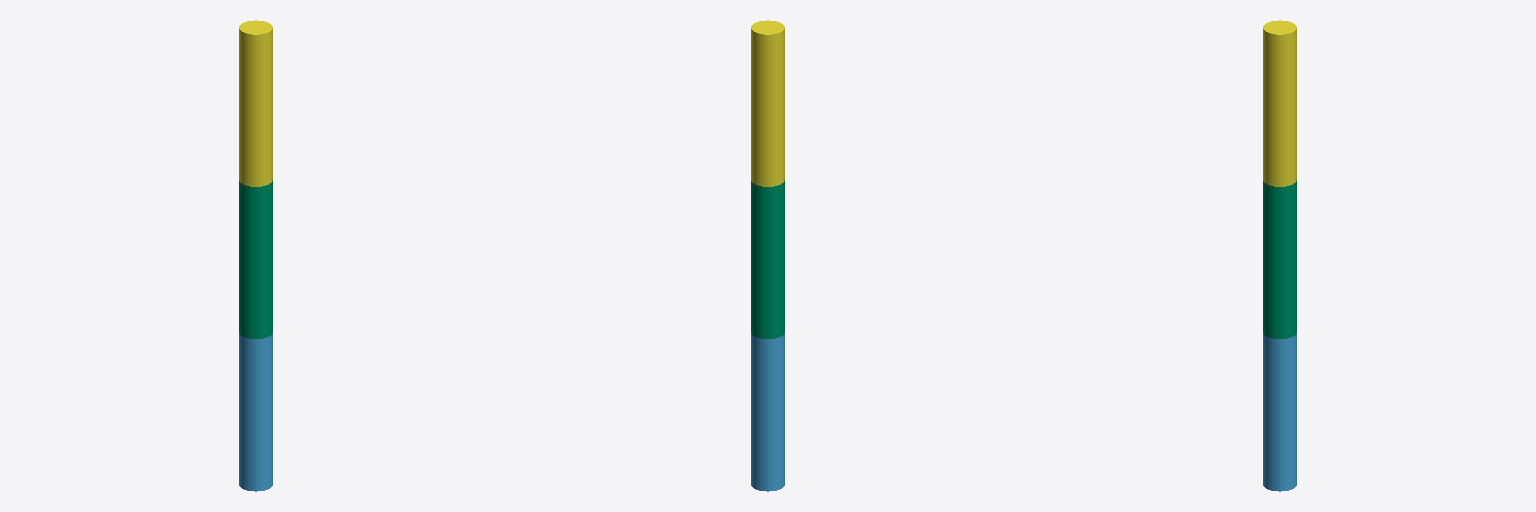
The robot description file, URDF, robot "lamp":
<?xml version="1.0"?>
<robot name="lamp">

  <!-- *************************************************** -->
  <!-- ******************** Kinematics ******************* -->
  <!-- *************************************************** -->

  <!-- Base Link -->
  <link name="base">
    <visual>
      <geometry>
        <mesh filename="package://pixar/meshes/lamp/base.stl" scale="0.01 0.01 0.01"/>
      </geometry>
    </visual>
  </link>

  <!-- Joint between world and link0 -->
  <joint name="theta1" type="continuous">
    <parent link="base"/>
    <child  link="link0"/>
    <origin xyz="0 0 0" rpy="0 0 0"/>
    <axis   xyz="0 0 1"/>
  </joint>

  <!-- Link 0 -->
  <link name="link0">
    <visual>
      <geometry>
        <mesh filename="package://pixar/meshes/lamp/link.stl" scale="0.01 0.01 0.01"/>
      </geometry>
    </visual>
  </link>

  <!-- Joint between link0 and link1 -->
  <joint name="theta2" type="continuous">
    <parent link="link0"/>
    <child  link="link1"/>
    <origin xyz="0 0 0.5" rpy="0 0 0"/>
    <axis   xyz="0 1 0"/>
  </joint>

  <!-- Link 1 -->
  <link name="link1">
    <visual>
      <geometry>
        <mesh filename="package://pixar/meshes/lamp/link.stl" scale="0.01 0.01 0.01"/>
      </geometry>
    </visual>
  </link>

  <!-- Joint between link1 and link2 -->
  <joint name="theta3" type="continuous">
    <parent link="link1"/>
    <child  link="link2"/>
    <origin xyz="0 0 0.5" rpy="0 0 0"/>
    <axis   xyz="0 1 0"/>
  </joint>

  <!-- Link 2 -->
  <link name="link2">
    <visual>
      <geometry>
        <mesh filename="package://pixar/meshes/lamp/link.stl"  scale="0.01 0.01 0.01"/>
      </geometry>
    </visual>
  </link>

  <!-- Joint between link2 and head -->
  <joint name="theta4" type="continuous">
    <parent link="link2"/>
    <child  link="head"/>
    <origin xyz="0 0 0.5" rpy="0 0 0"/>
    <axis   xyz="0 1 0"/>
  </joint>

  <!-- Head Link -->
  <link name="head">
    <visual>
      <geometry>
        <mesh filename="package://pixar/meshes/lamp/head.stl"  scale="0.01 0.01 0.01"/>
      </geometry>
    </visual>
  </link>

</robot>

--- Render facts (derived) ---
Views: 3 orthographic renders of the robot side by side, from view 1: azimuth 30°, elevation 25°; view 2: azimuth 150°, elevation 25°; view 3: azimuth 270°, elevation 25°.
Model lamp with 5 links and 4 joints (4 continuous), rooted at base, posed every joint at zero.
Visible links, largest first — view 1: link2, link0, link1; view 2: link2, link0, link1; view 3: link2, link0, link1.
Link boxes in pixels (x1,y1,x2,y2): link2: [239, 20, 272, 186]; link0: [239, 333, 272, 491]; link1: [239, 181, 272, 338]; link2: [751, 20, 784, 186]; link0: [751, 333, 784, 491]; link1: [751, 181, 784, 338]; link2: [1263, 20, 1296, 186]; link0: [1263, 333, 1296, 491]; link1: [1263, 181, 1296, 338].
Bounding box of the posed robot: 0.1 × 0.1 × 1.5 m (x, y, z).
3 mesh visuals loaded from 3 distinct referenced files (1 binary STL); not drawn: 2 (reference not matched to a file when rendering).